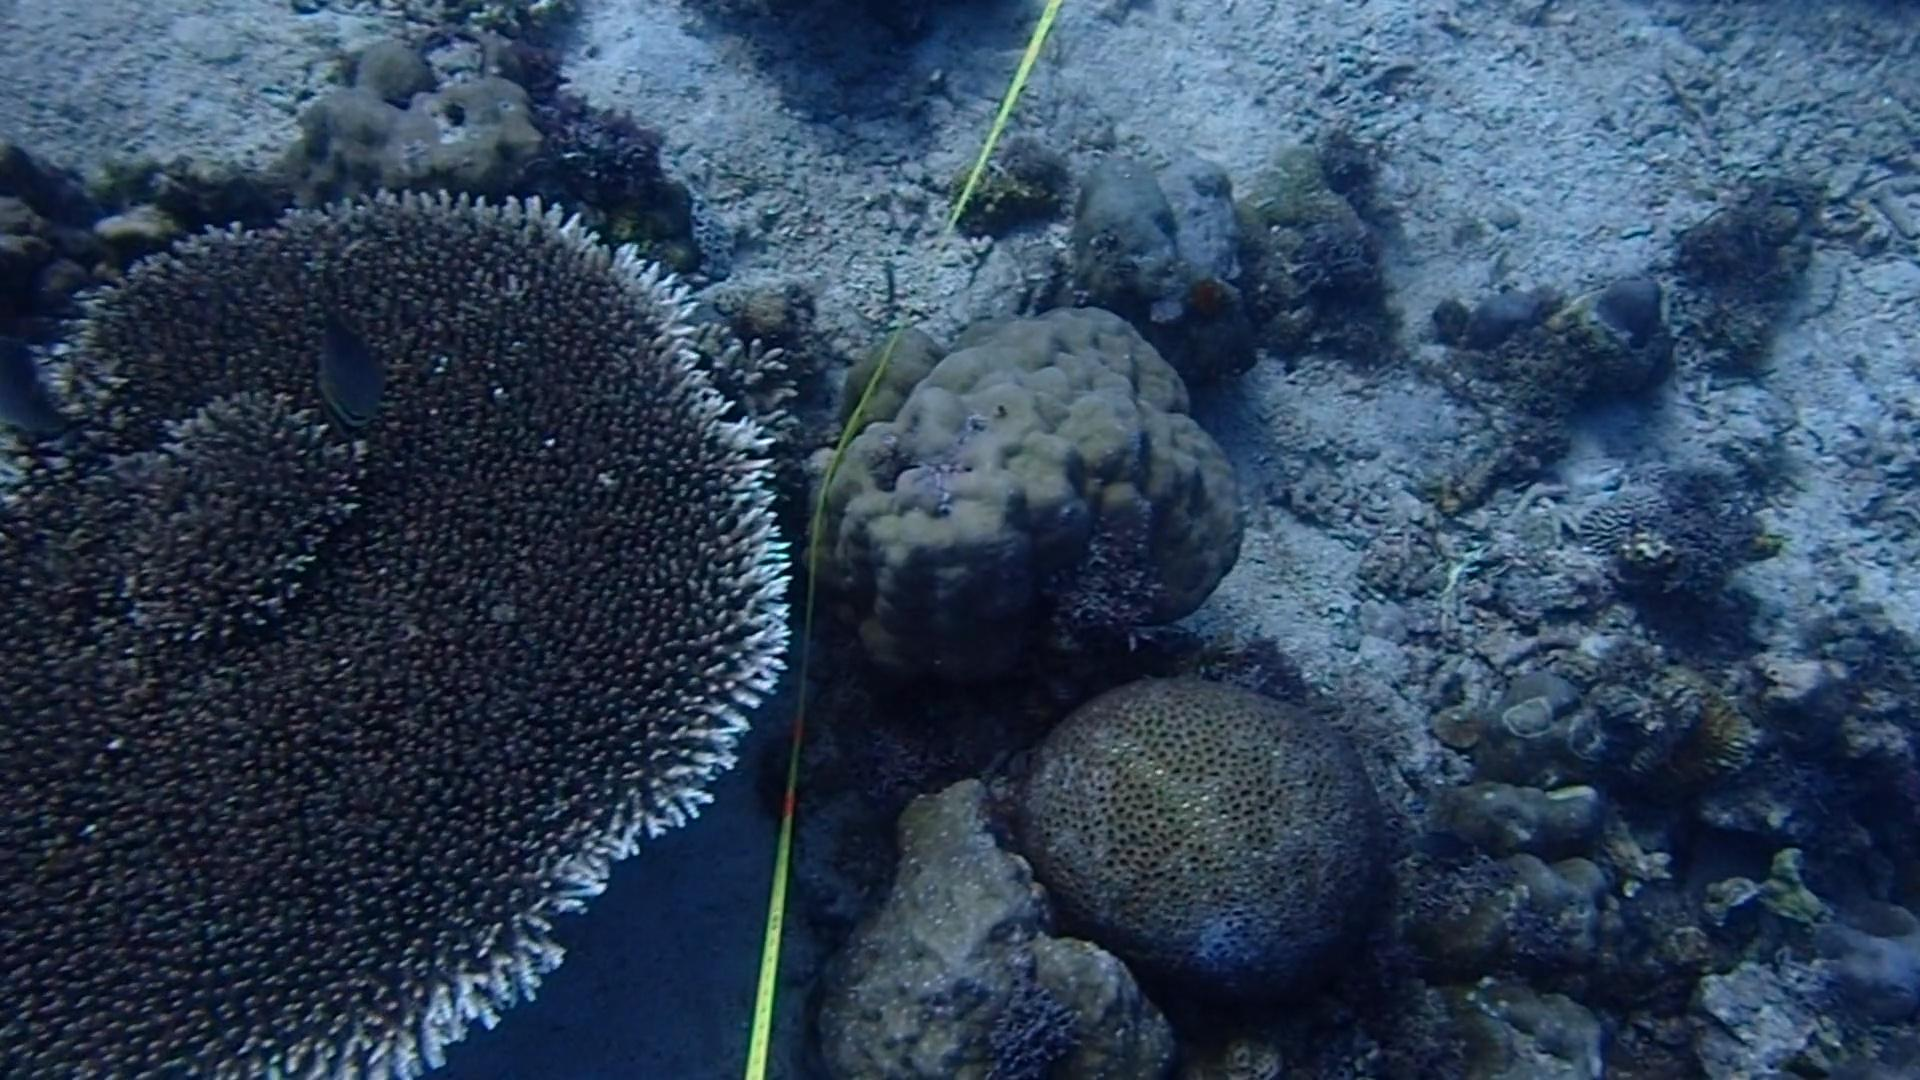Dark Blue Dory: (293, 295, 388, 430)
Light Fish: (1410, 819, 1476, 874)
